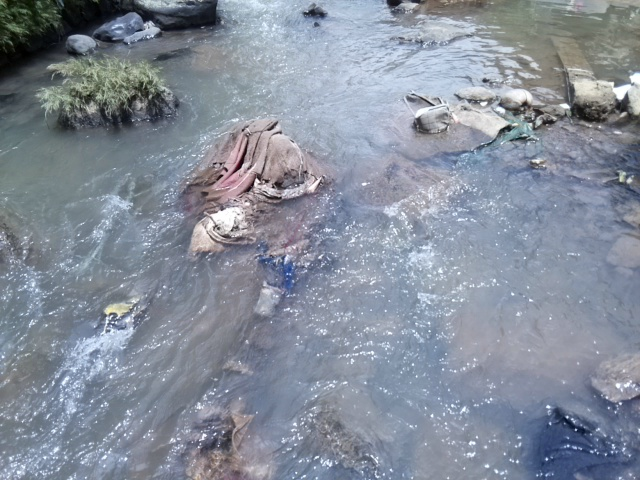Sampah_Plastik: (182, 117, 303, 251)
